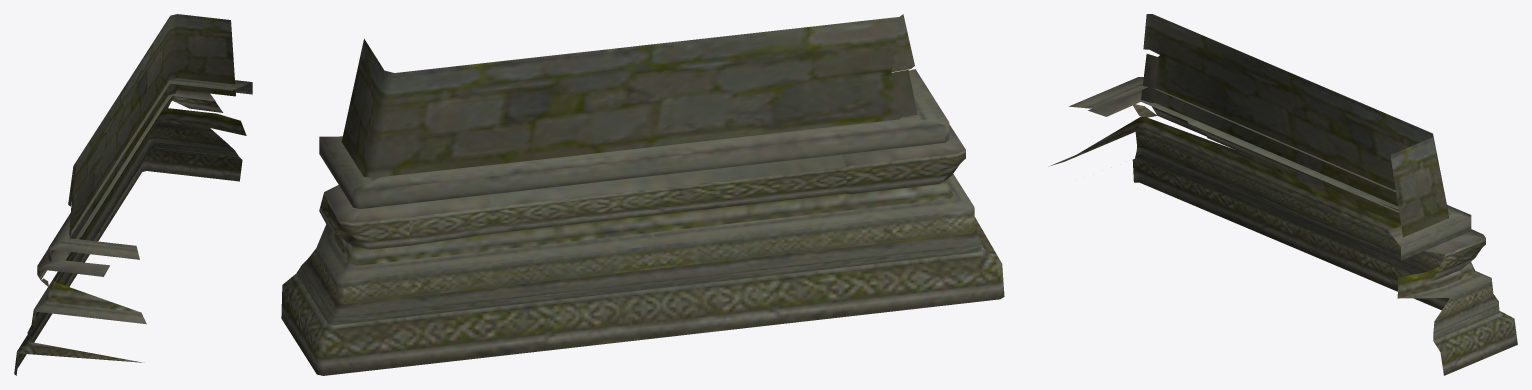
The model's file is S2_Build_XSC065_a_H1.FBX.
3 views of the same model, side by side, from view 1: azimuth 30°, elevation 25°; view 2: azimuth 150°, elevation 25°; view 3: azimuth 270°, elevation 25° (orthographic). The views are drawn at different scales.
Parts seen in each view (by area): view 1: S2_Build_XSC065_a_H1; view 2: S2_Build_XSC065_a_H1; view 3: S2_Build_XSC065_a_H1.
Part boxes in pixels (x1,y1,x2,y2): S2_Build_XSC065_a_H1: (14,14,252,375); S2_Build_XSC065_a_H1: (281,14,1004,375); S2_Build_XSC065_a_H1: (1049,14,1517,375).
Size of the model in its own units: 3021 by 1474 by 3190.
